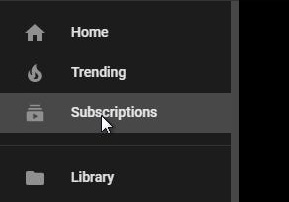cursor: (99, 113, 113, 135)
